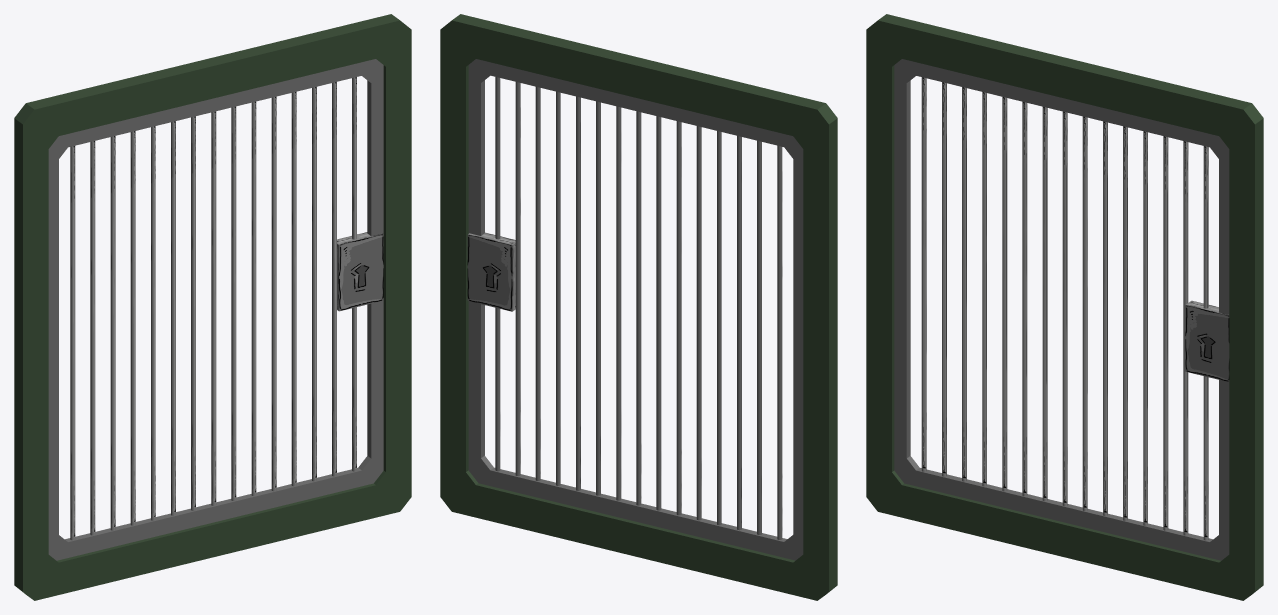
The model's file is Door_1.fbx.
3 renders of one model, left to right at view 1: azimuth 30°, elevation 25°; view 2: azimuth 150°, elevation 25°; view 3: azimuth 330°, elevation 25°, orthographic.
Parts seen in each view (by area): view 1: Frame, Door; view 2: Frame, Door; view 3: Frame, Door.
Boxes of the visible parts, bbox=[...] form: Frame: bbox=[14, 14, 411, 600]; Door: bbox=[48, 59, 383, 560]; Frame: bbox=[440, 14, 837, 600]; Door: bbox=[467, 59, 803, 560]; Frame: bbox=[866, 14, 1263, 600]; Door: bbox=[894, 59, 1229, 560].
Size of the model in its own units: 156 by 189 by 6.12.
